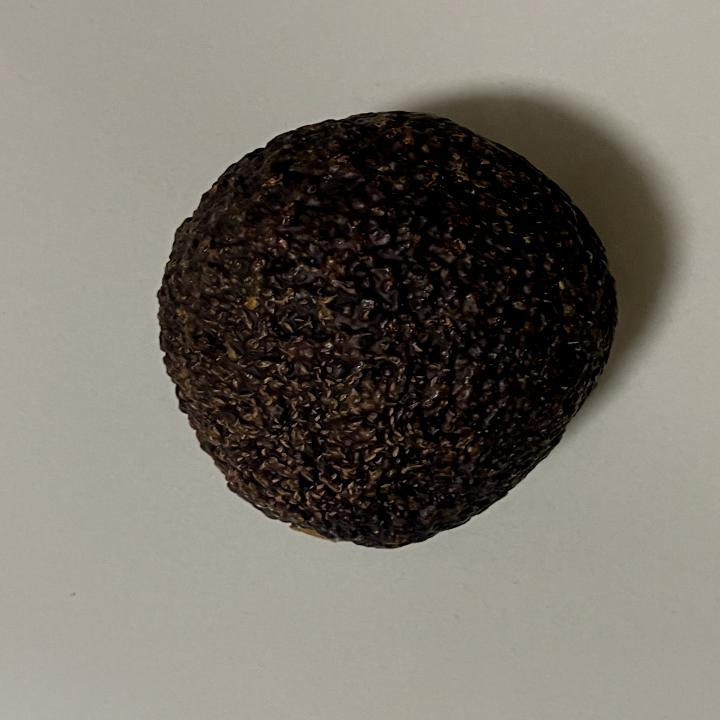Level2: (150, 103, 622, 556)
